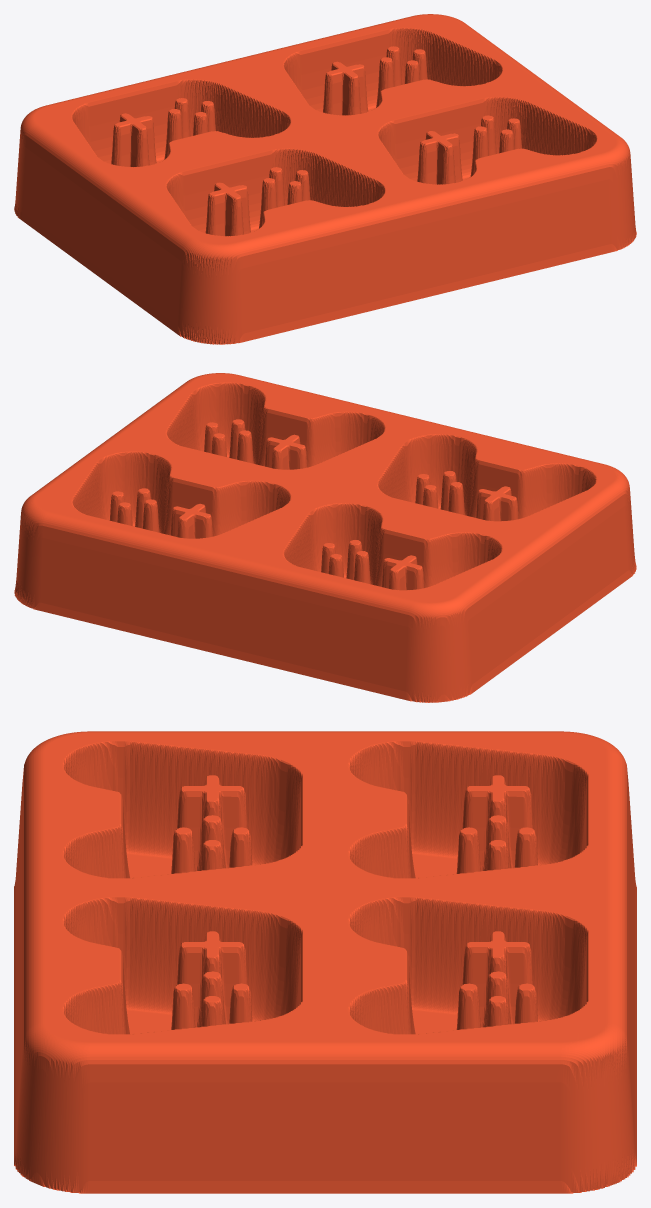
Rendered from mold.glb.
The picture shows the model from 3 angles, top to bottom: view 1: azimuth 30°, elevation 25°; view 2: azimuth 150°, elevation 25°; view 3: azimuth 270°, elevation 25°; orthographic projection. The views are drawn at different scales.
Parts seen in each view (by area): view 1: geometry_0; view 2: geometry_0; view 3: geometry_0.
Part boxes in pixels (<box>): geometry_0: <box>14,14,636,344</box>; geometry_0: <box>14,373,636,702</box>; geometry_0: <box>14,731,636,1193</box>.
Bounding box in the file's own units: 0.0942 × 0.0182 × 0.0742.
